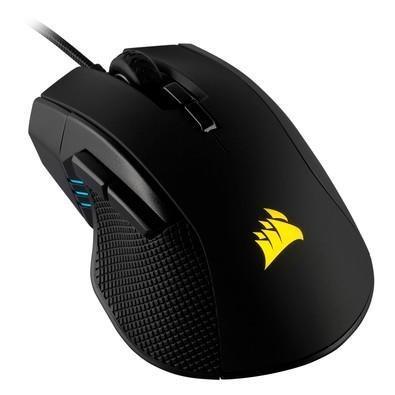mouse: (25, 35, 377, 380)
